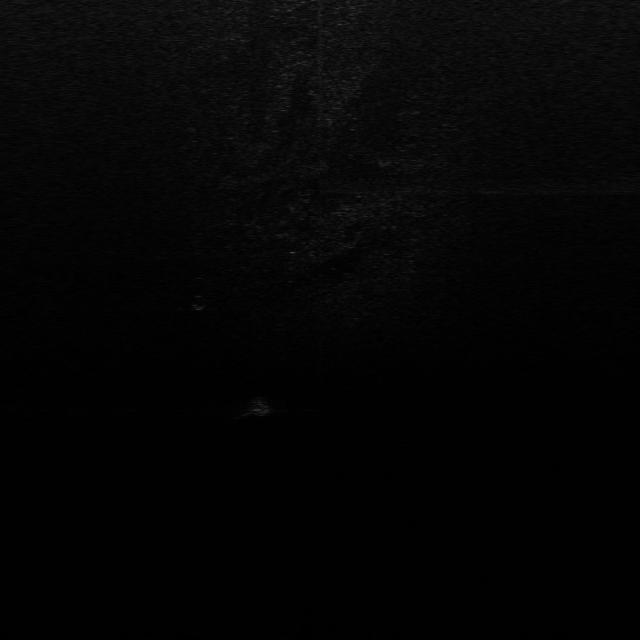ball: (246, 396, 274, 417)
circle cage: (186, 292, 213, 312)
